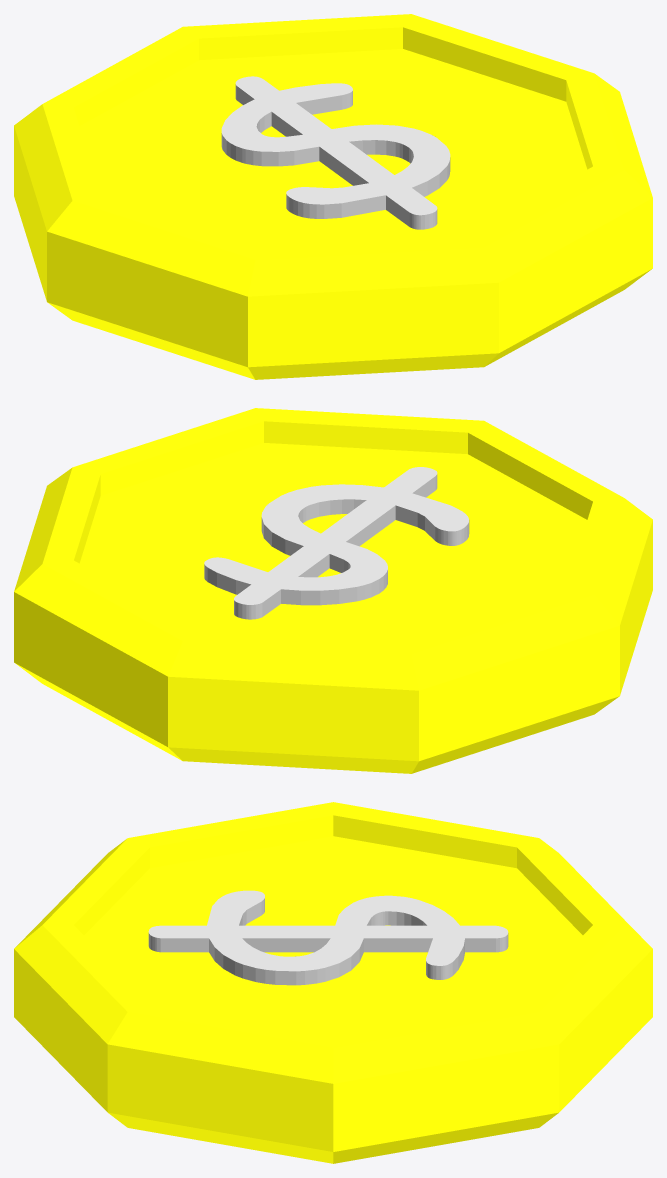
The model's file is Coin_New.glb.
The picture shows the model from 3 angles, top to bottom: view 1: azimuth 30°, elevation 25°; view 2: azimuth 150°, elevation 25°; view 3: azimuth 270°, elevation 25°; orthographic projection. The views are drawn at different scales.
Parts seen in each view (by area): view 1: Coin_New; view 2: Coin_New; view 3: Coin_New.
Boxes of the visible parts, bbox=[...] form: Coin_New: bbox=[14, 14, 652, 379]; Coin_New: bbox=[14, 408, 652, 773]; Coin_New: bbox=[14, 802, 652, 1163].
Bounding box in the file's own units: 2 × 0.4 × 2.
